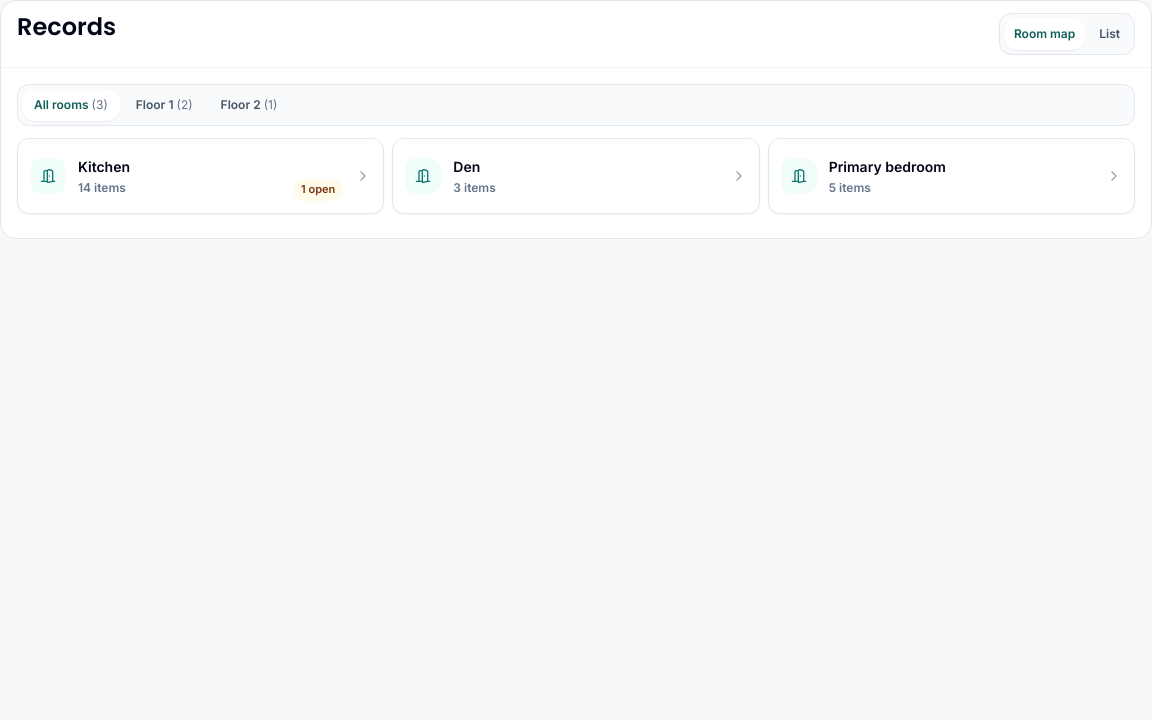
Test: room map › floors are switchable and a room opens its detail in place
Check: the list named "All rooms, 3 rooms" is shown, box [17, 138, 1135, 222]
Check: the text "1 open" is shown, box [293, 179, 343, 201]
Click the button "Floor 1 (2)": (164, 105) [124, 89, 205, 121]
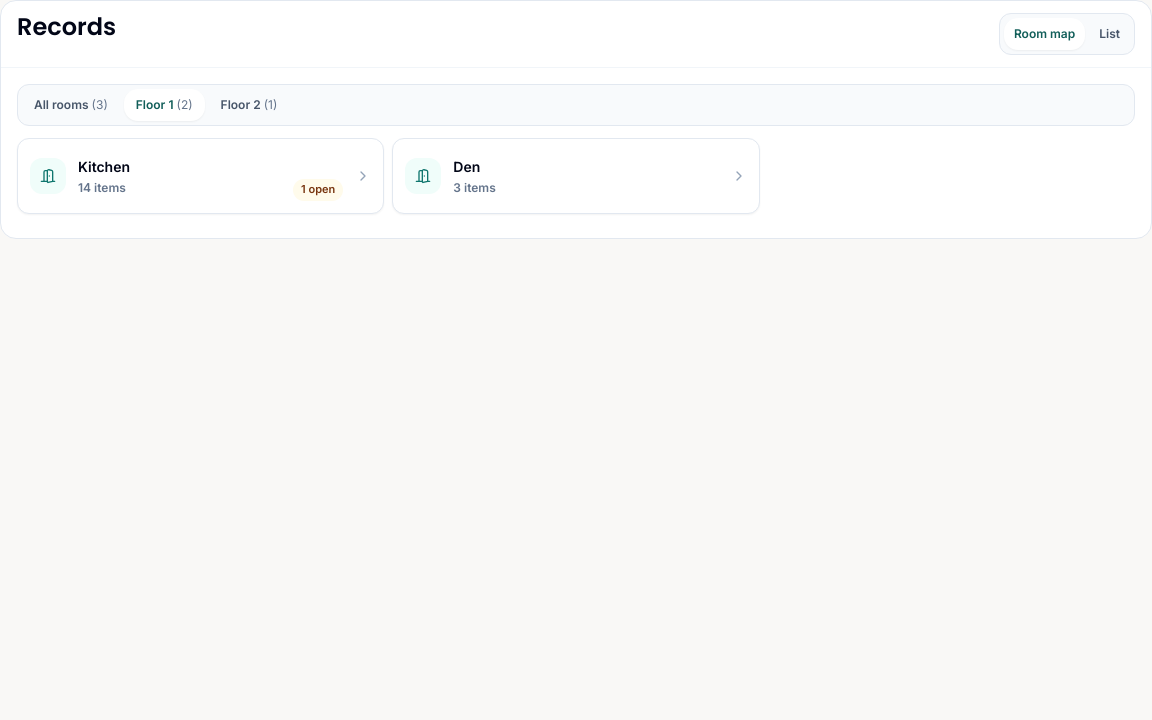
Check: the list named "Floor 1, 2 rooms" is shown, box [17, 138, 760, 214]
Click the button "Floor 2 (1)": (249, 105) [209, 89, 289, 121]
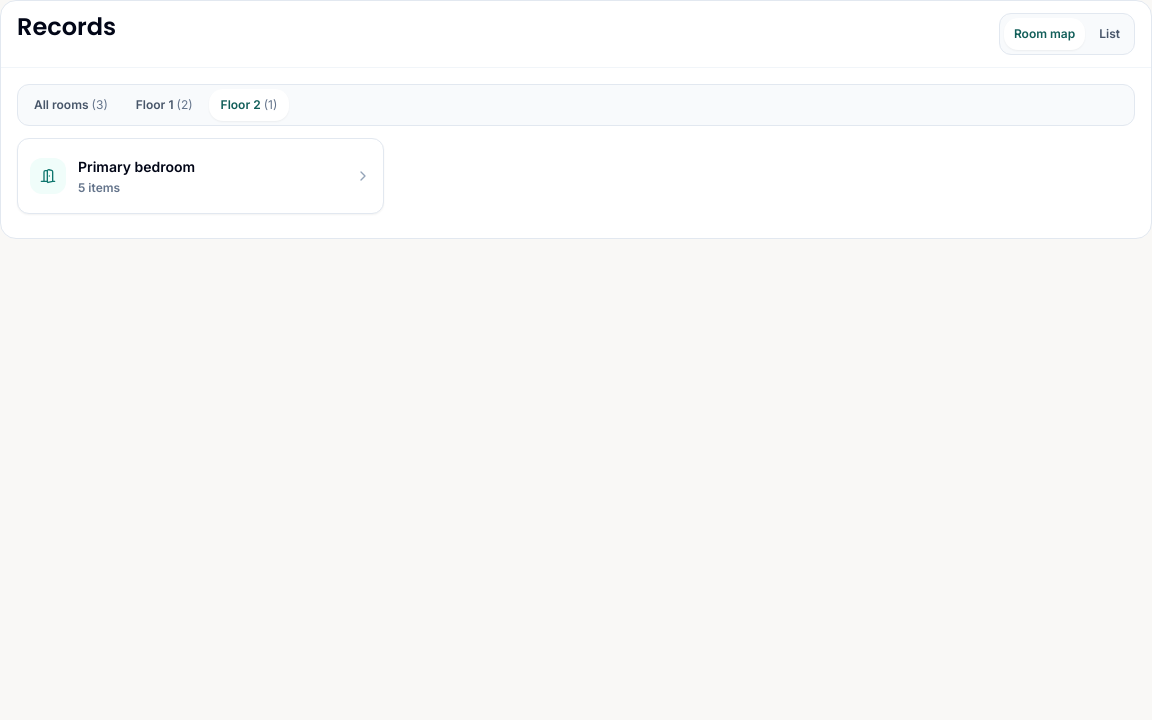
Check: the list named "Floor 2, 1 room" is shown
Click the button "Primary bedroom 5 items": (48, 176) [17, 138, 384, 214]
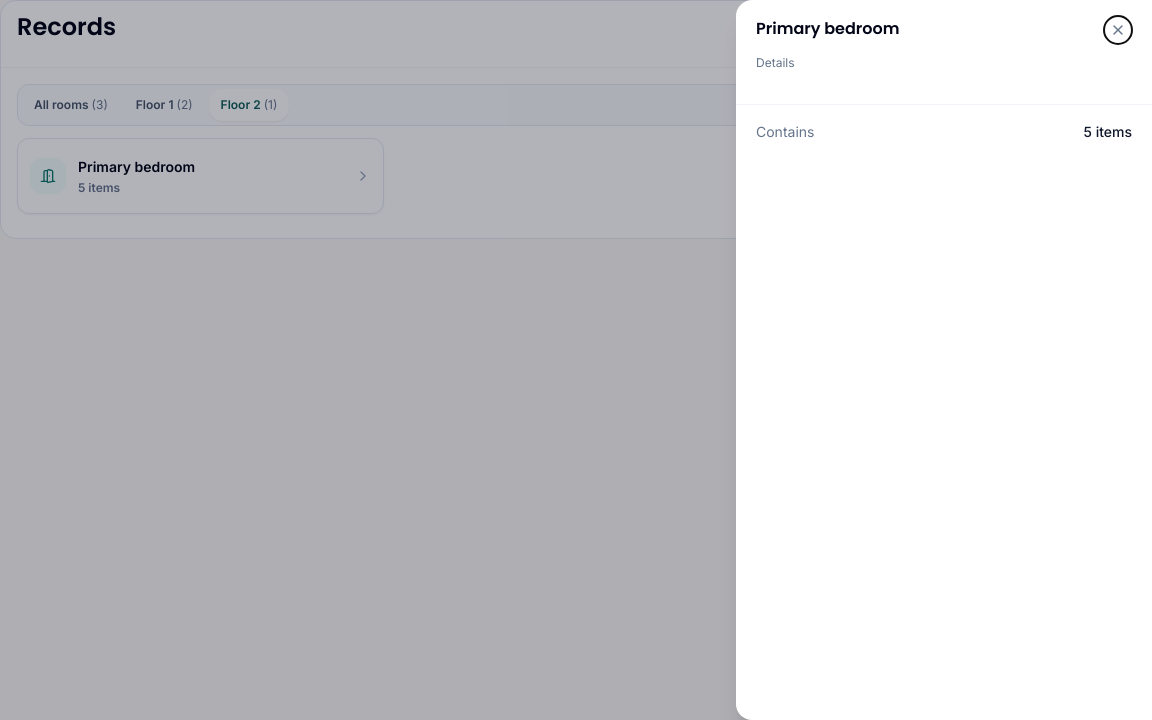
Check: the dialog "Primary bedroom" is shown, box [736, 0, 1151, 719]
